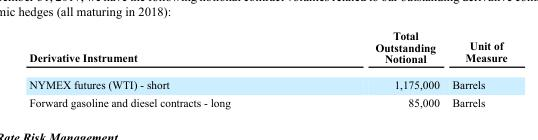table: (28, 29, 506, 108)
table column: (28, 29, 302, 108), (302, 29, 445, 108), (445, 29, 506, 108)
table column header: (28, 29, 506, 71)
table row: (28, 29, 506, 71), (28, 71, 506, 93), (28, 93, 506, 108)
